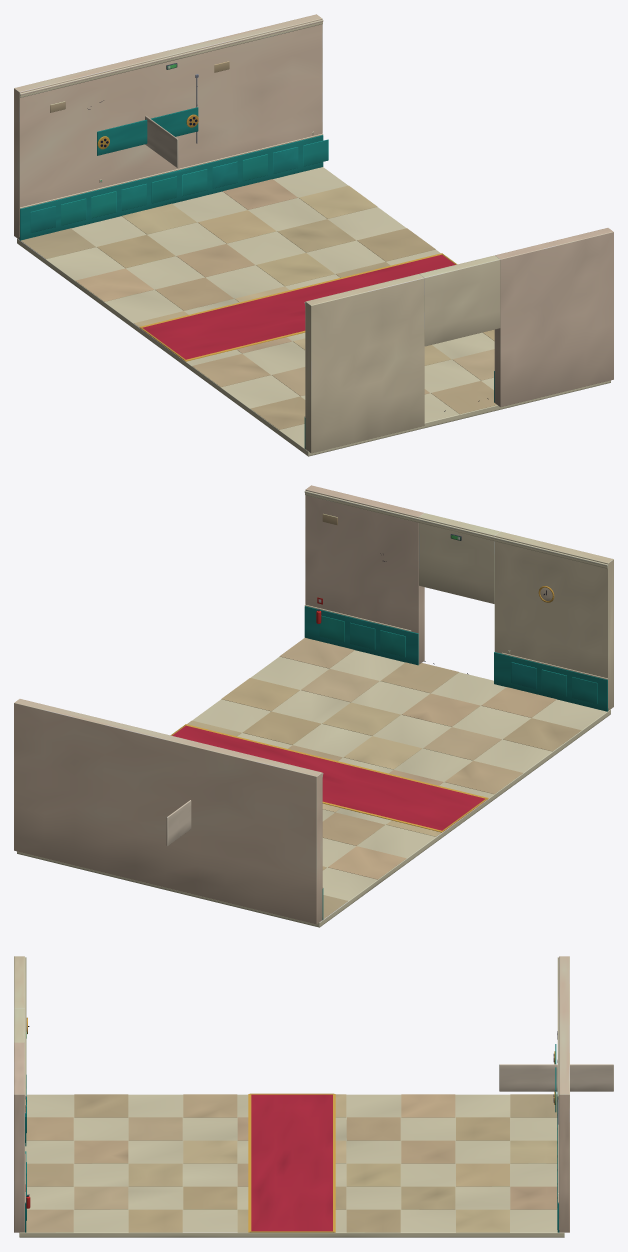
Rendered from SM_Lobby_Shell.fbx.
3 renders of one model, top to bottom at view 1: azimuth 30°, elevation 25°; view 2: azimuth 150°, elevation 25°; view 3: azimuth 270°, elevation 25°, orthographic. The views are drawn at different scales.
Visible parts, largest first — view 1: SM_Lobby_Shell; view 2: SM_Lobby_Shell; view 3: SM_Lobby_Shell.
Boxes of the visible parts, x1,y1,x2,y2 form: SM_Lobby_Shell: (14, 14, 613, 456); SM_Lobby_Shell: (14, 485, 613, 927); SM_Lobby_Shell: (14, 956, 613, 1237).
Bounding box in the file's own units: 1220 × 580 × 2201.
